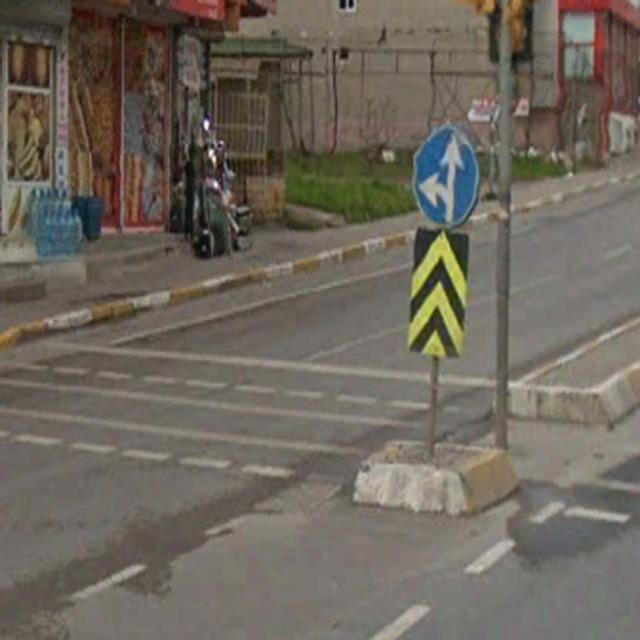ilerisol: (412, 124, 478, 228)
